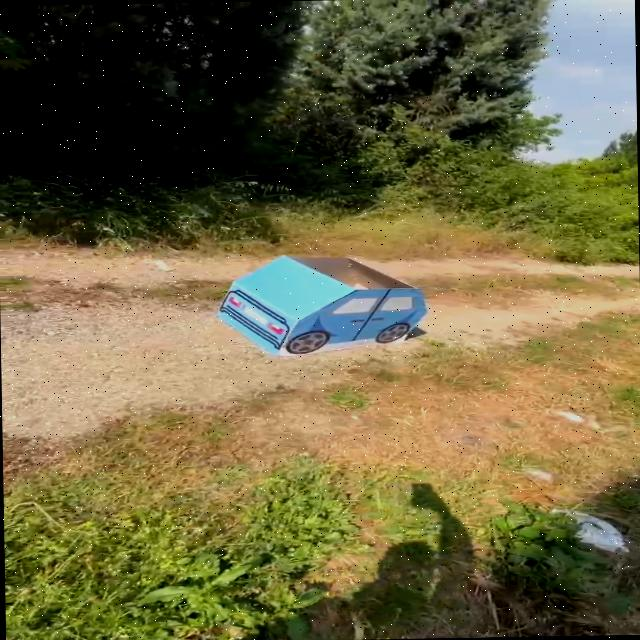blue_car: (187, 239, 452, 365)
